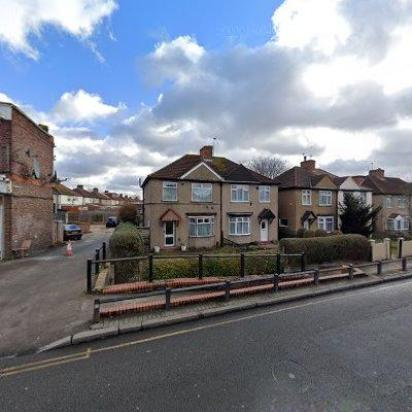stationary-car-offstreet: (64, 223, 82, 239), (106, 215, 118, 228)
